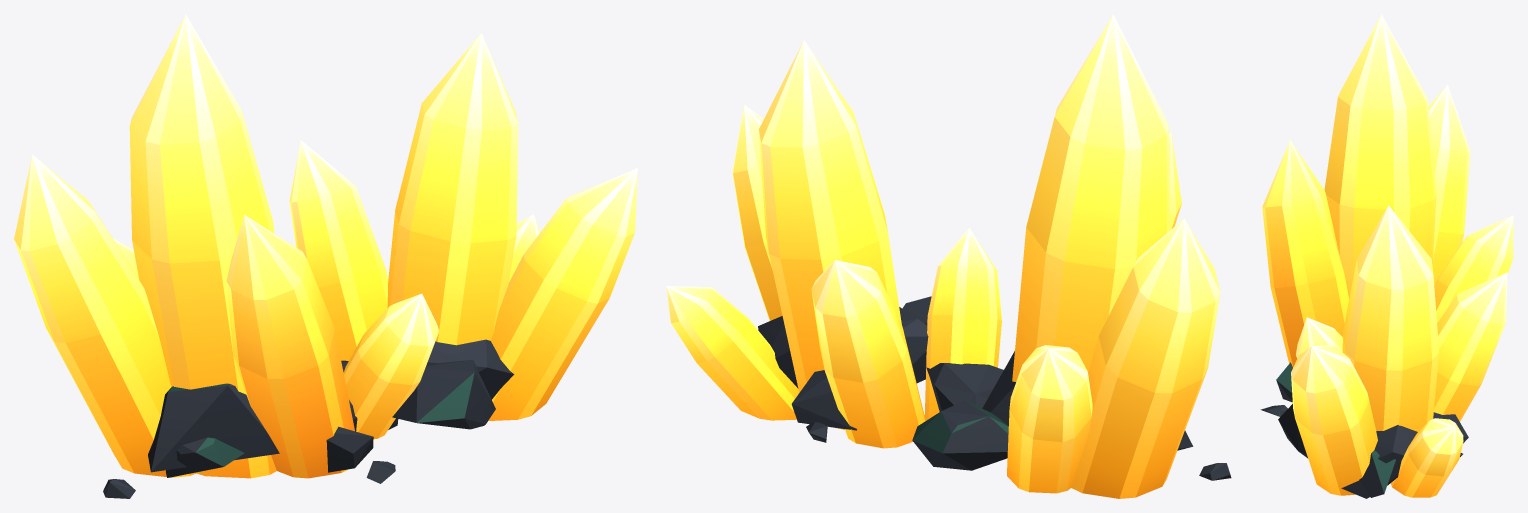
Rendered from crystal_b.glb.
3 renders of one model, left to right at view 1: azimuth 30°, elevation 25°; view 2: azimuth 150°, elevation 25°; view 3: azimuth 270°, elevation 25°, orthographic. The views are drawn at different scales.
Parts seen in each view (by area): view 1: crystal_b; view 2: crystal_b; view 3: crystal_b.
Part boxes in pixels (box(x1,y1,x2,y2)): crystal_b: box(14, 14, 637, 498); crystal_b: box(666, 14, 1231, 498); crystal_b: box(1260, 14, 1513, 498).
Bounding box in the file's own units: 2.09 × 1.64 × 1.07.
2 materials, 2 textured.
